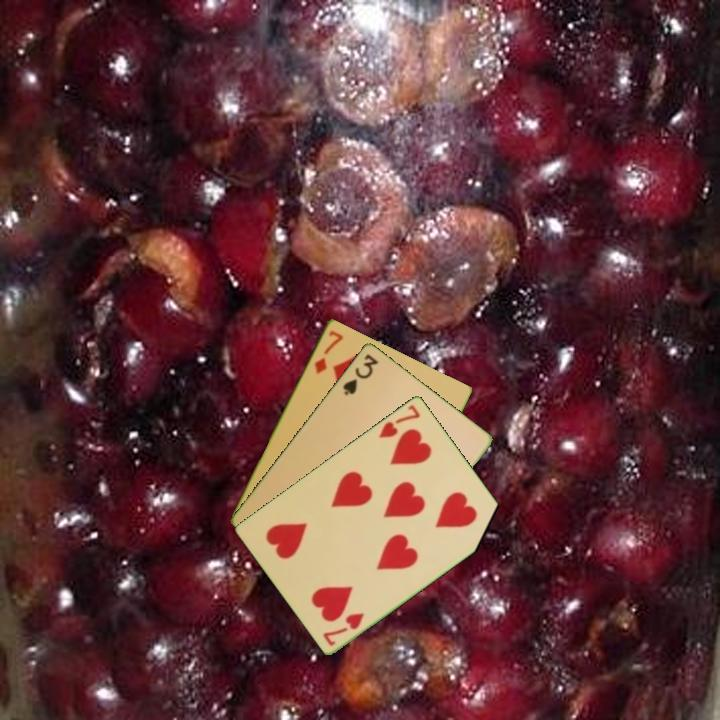3s: (339, 350, 381, 398)
7d: (311, 326, 346, 376)
7h: (375, 401, 423, 441), (320, 609, 367, 649)
